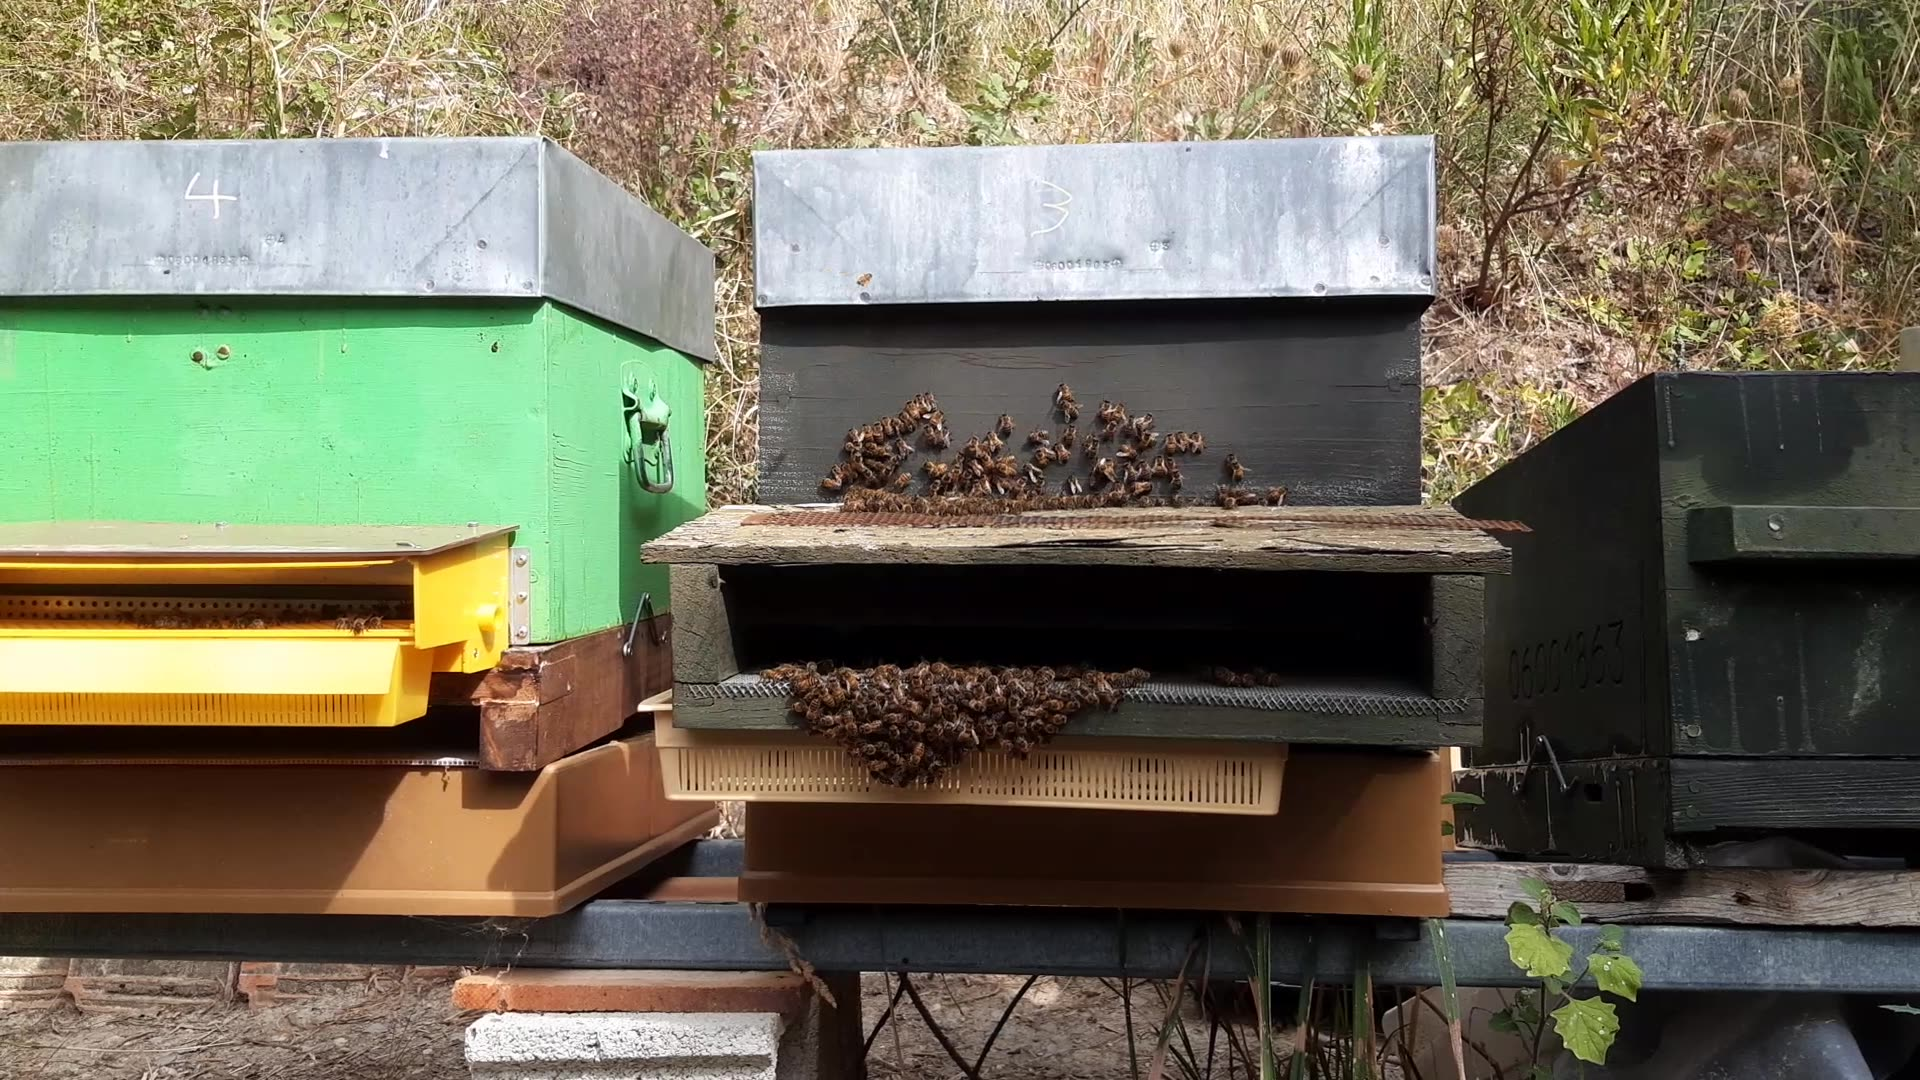bee: (1029, 675, 1129, 742), (869, 727, 945, 796), (808, 670, 887, 737), (775, 669, 851, 731), (840, 454, 910, 510), (1151, 455, 1226, 506), (1033, 463, 1100, 520), (938, 421, 1010, 472), (953, 460, 1025, 512), (1451, 262, 1505, 324), (862, 418, 927, 458), (1114, 433, 1178, 472), (1051, 404, 1105, 448)
